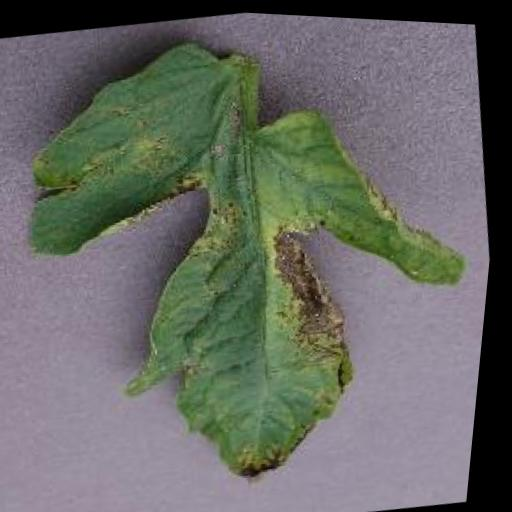Septoria: (0, 1, 512, 512)
